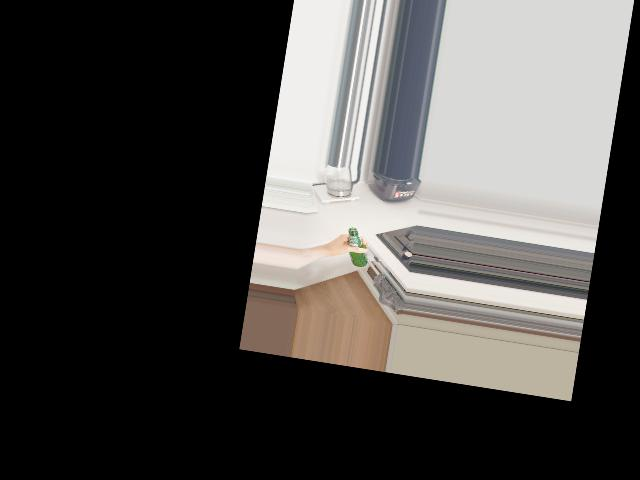beer: (342, 227, 372, 268)
